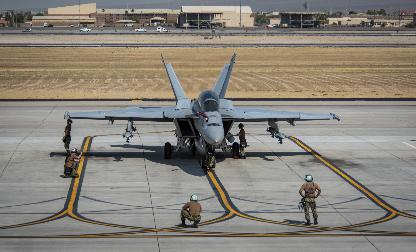F117: (286, 19, 320, 27), (187, 18, 215, 27)
F15: (64, 52, 340, 167)
